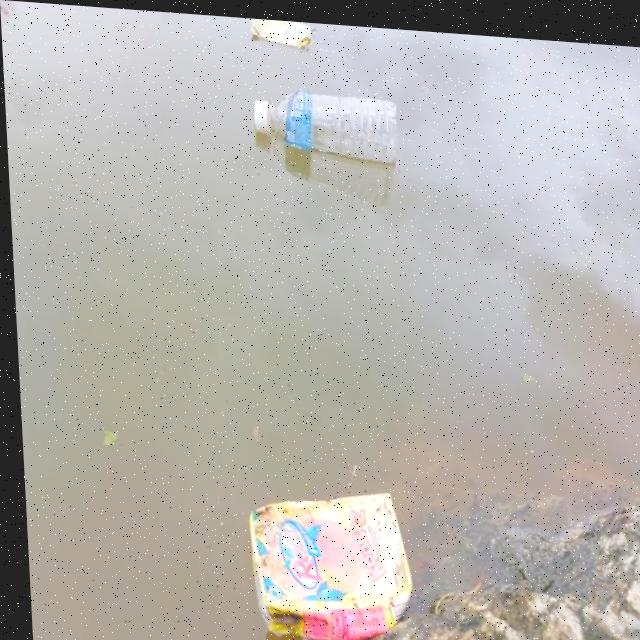paper: (238, 485, 409, 640), (241, 14, 329, 56)
waterbottle: (245, 80, 405, 164)
